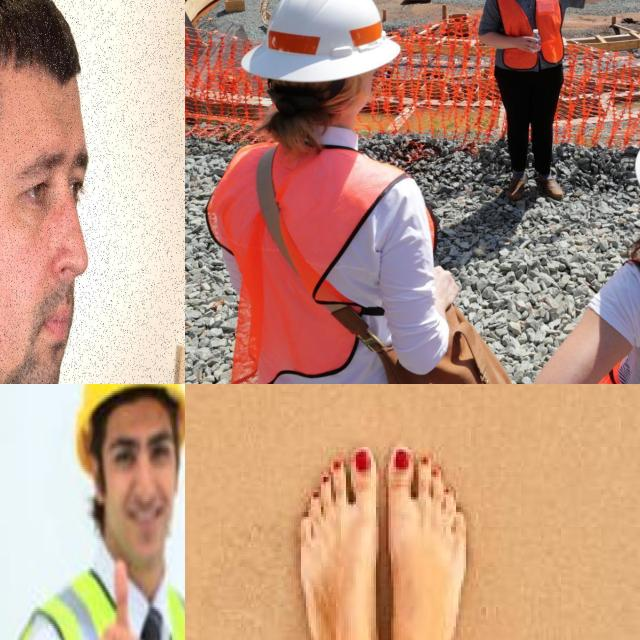Barefoots: (386, 424, 478, 640), (278, 452, 380, 640)
Ear-protection: (0, 0, 114, 384)
No_Glasses: (4, 134, 92, 228)
face_nomask: (102, 404, 182, 541)
hand_noglove: (73, 565, 148, 640), (513, 28, 547, 57)
head_helmet: (272, 0, 411, 83), (78, 384, 185, 452)
person: (223, 0, 456, 384), (5, 384, 185, 640), (456, 0, 617, 206)
shoes: (534, 167, 565, 203), (500, 171, 530, 200)
vest: (234, 133, 440, 384), (26, 567, 185, 640), (482, 0, 579, 67)
